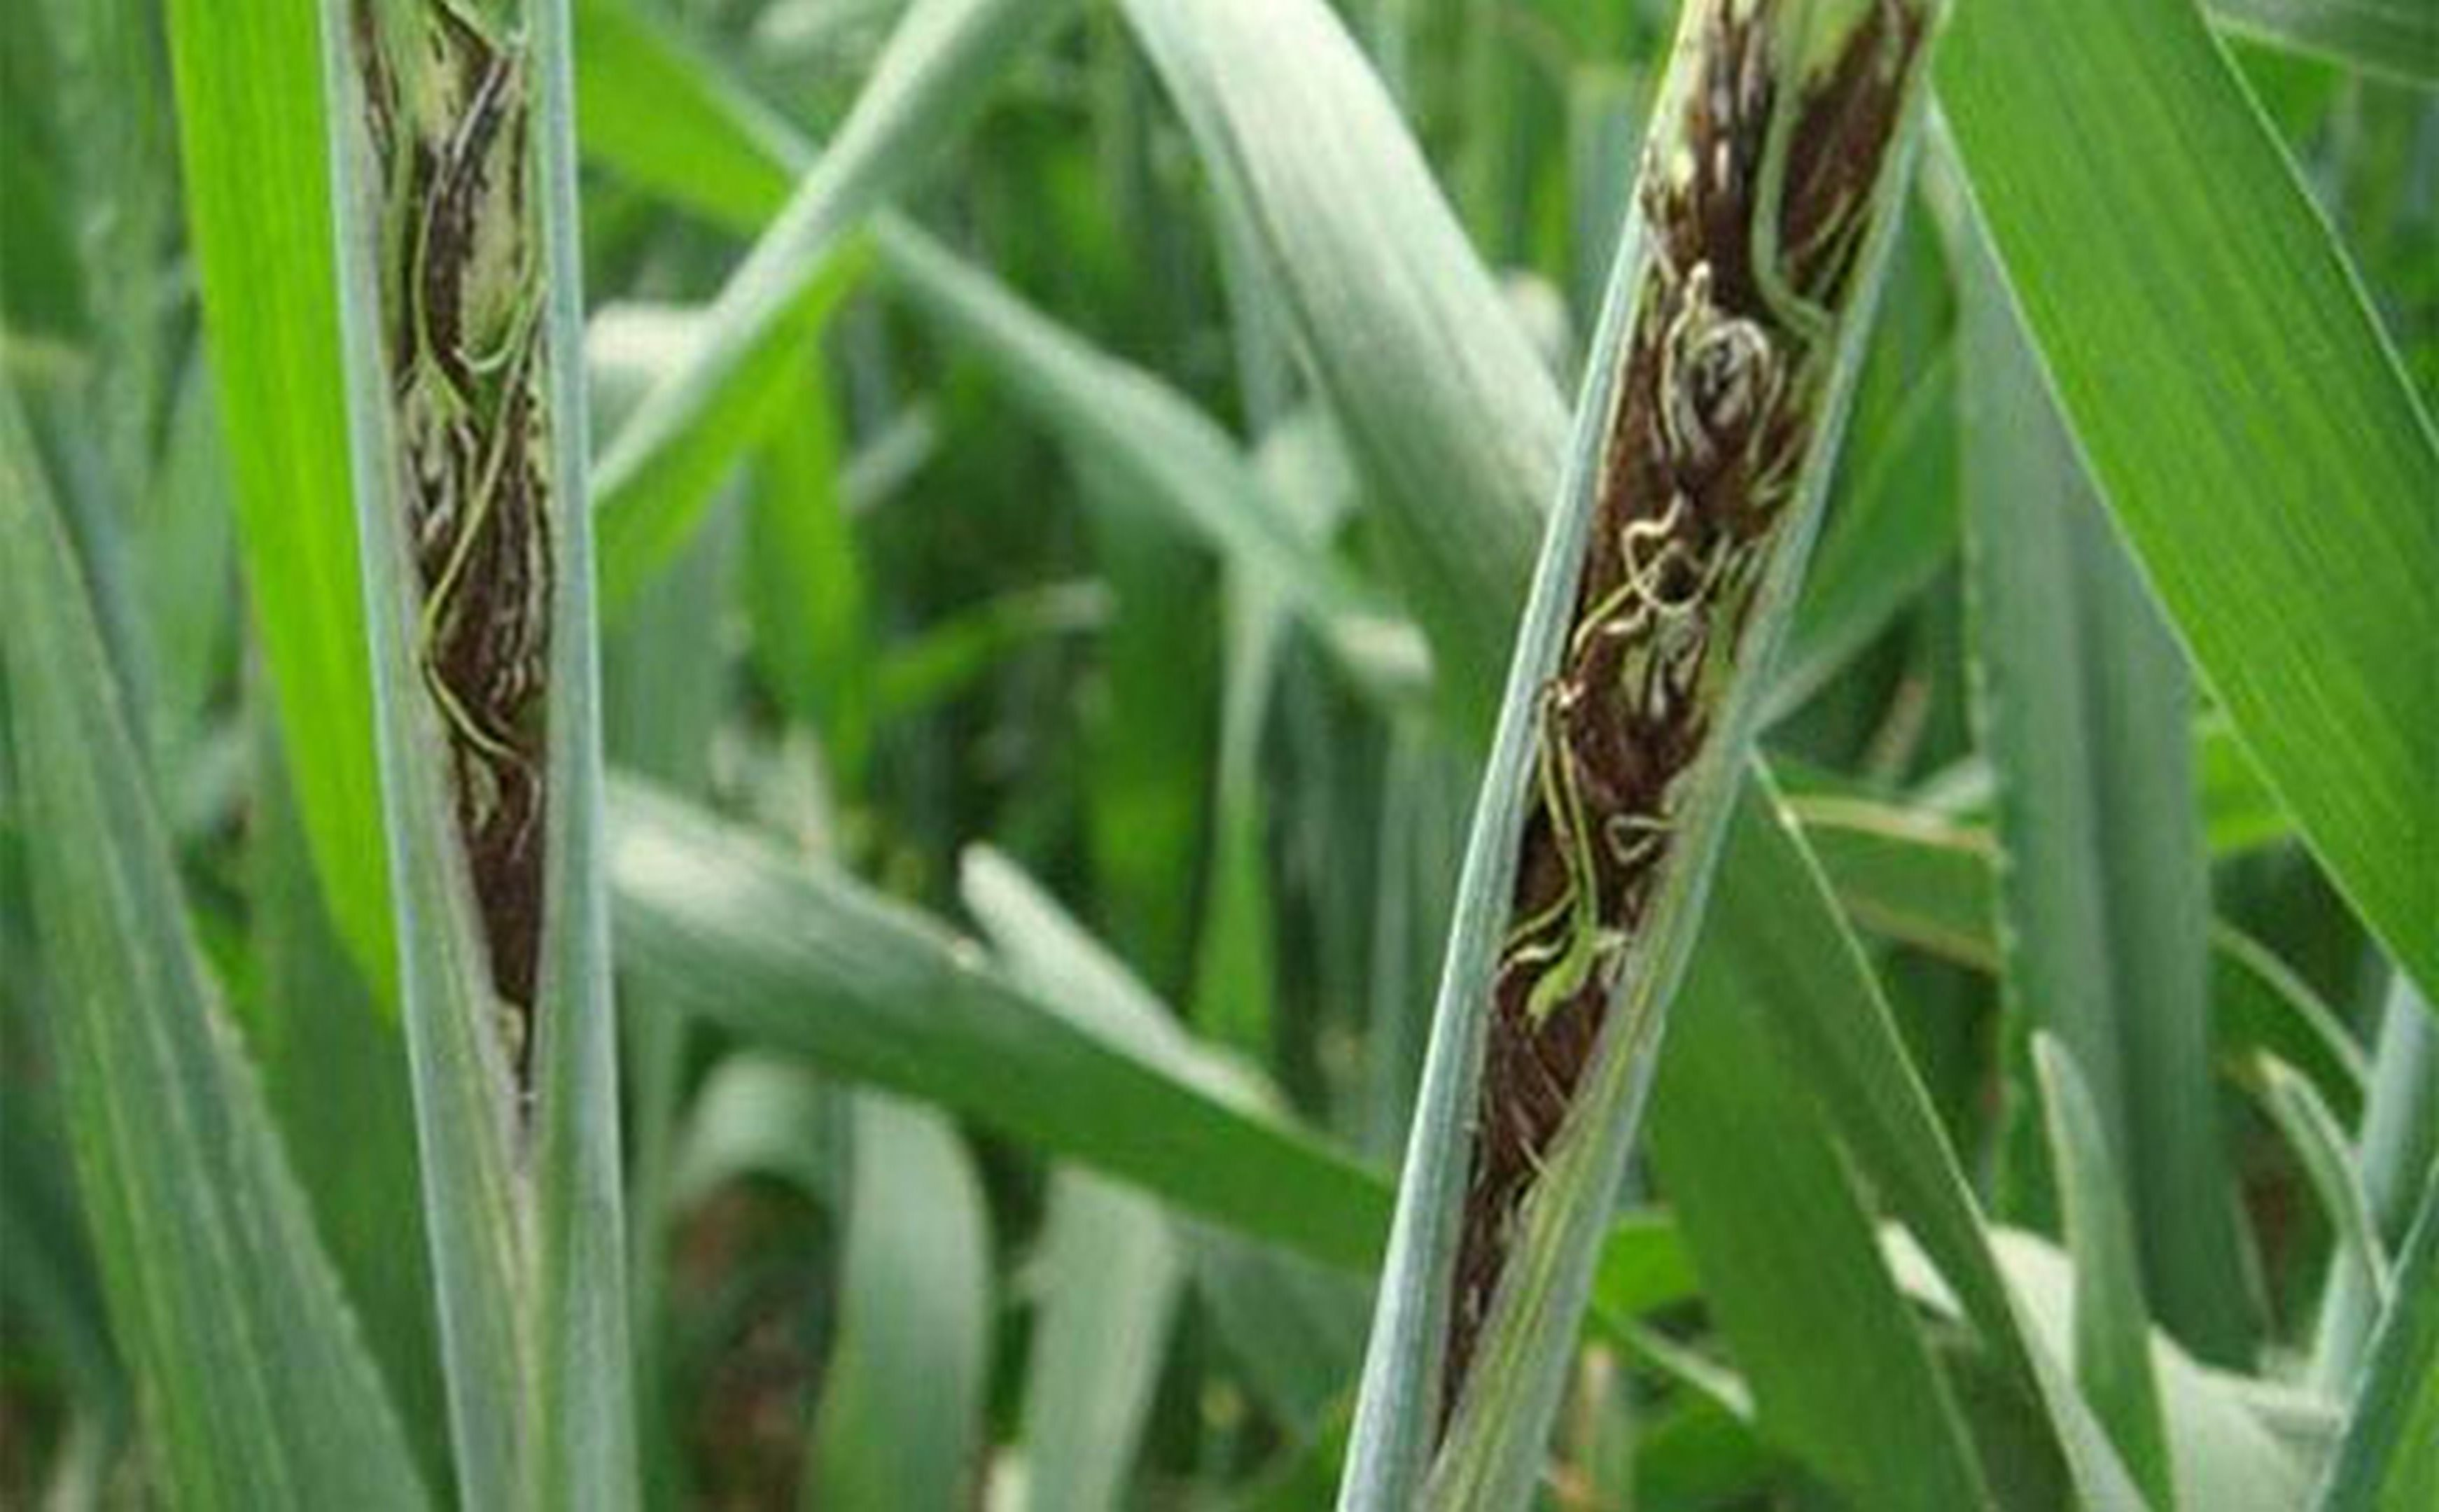Wheat Loose Smut: (1425, 98, 1911, 1256)
